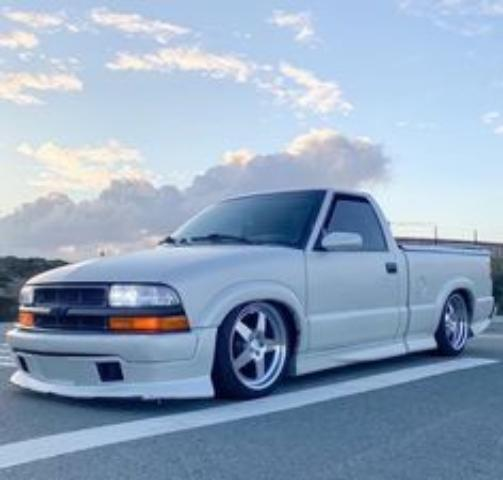pickup-truck: (5, 188, 498, 403)
